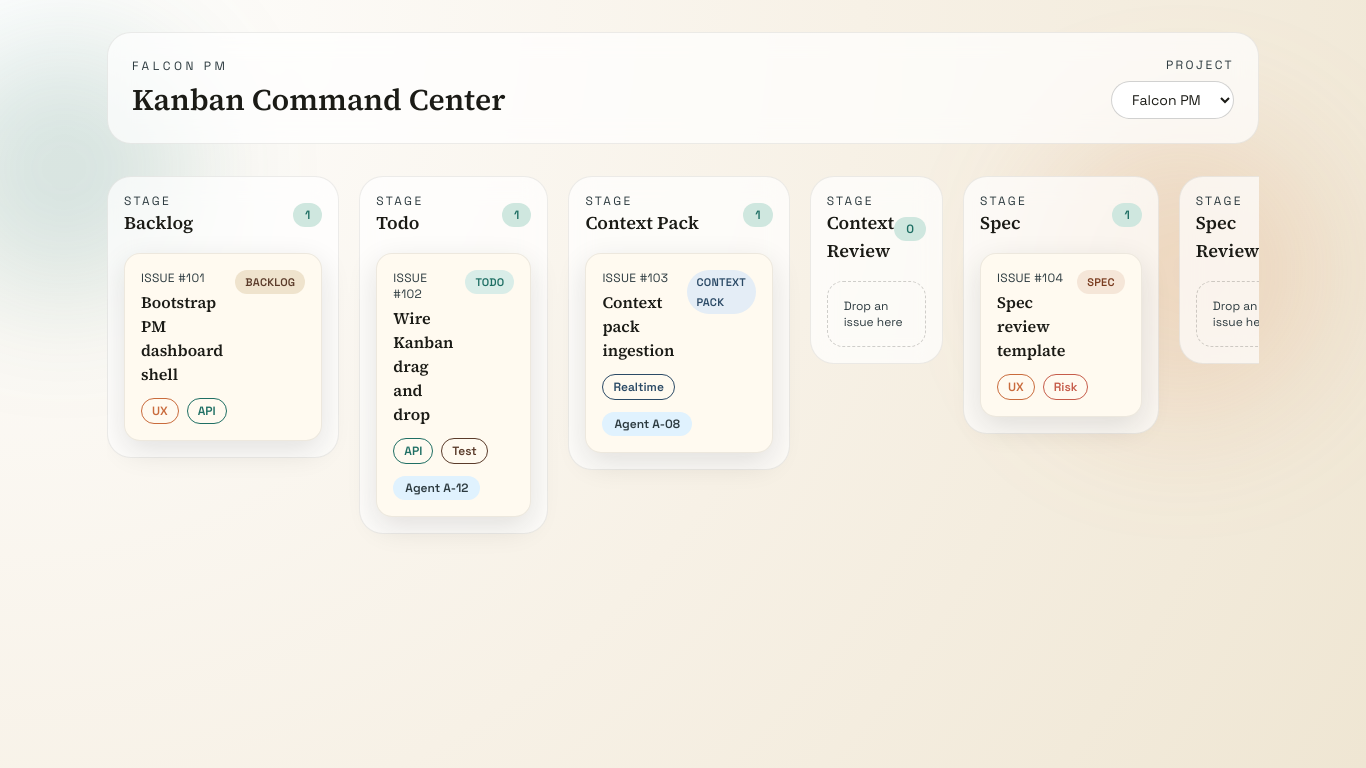
Test case: Kanban UI › opens issue modal and loads comments
The width and height of the screenshot is (1366, 768).
Click the button with test id "issue-card-issue-102": (454, 385) [376,253,531,517]
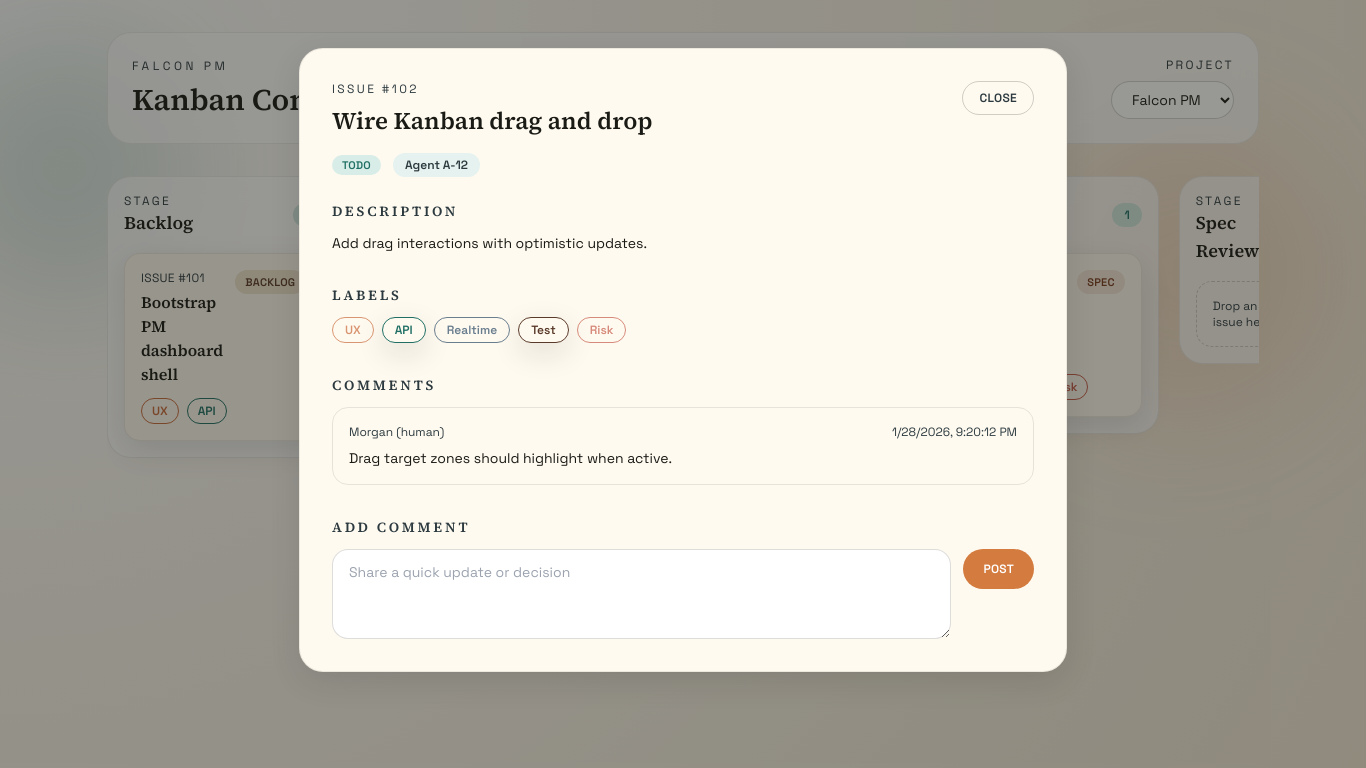
Result: the dialog is shown at [299,48,1067,672]
Result: the text "Drag target zones should highlight when active." is shown at [349,449,672,467]
